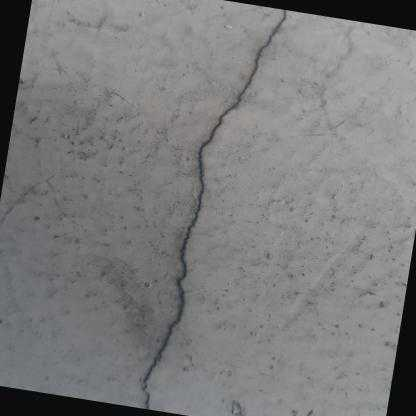crack: (138, 9, 287, 409)
